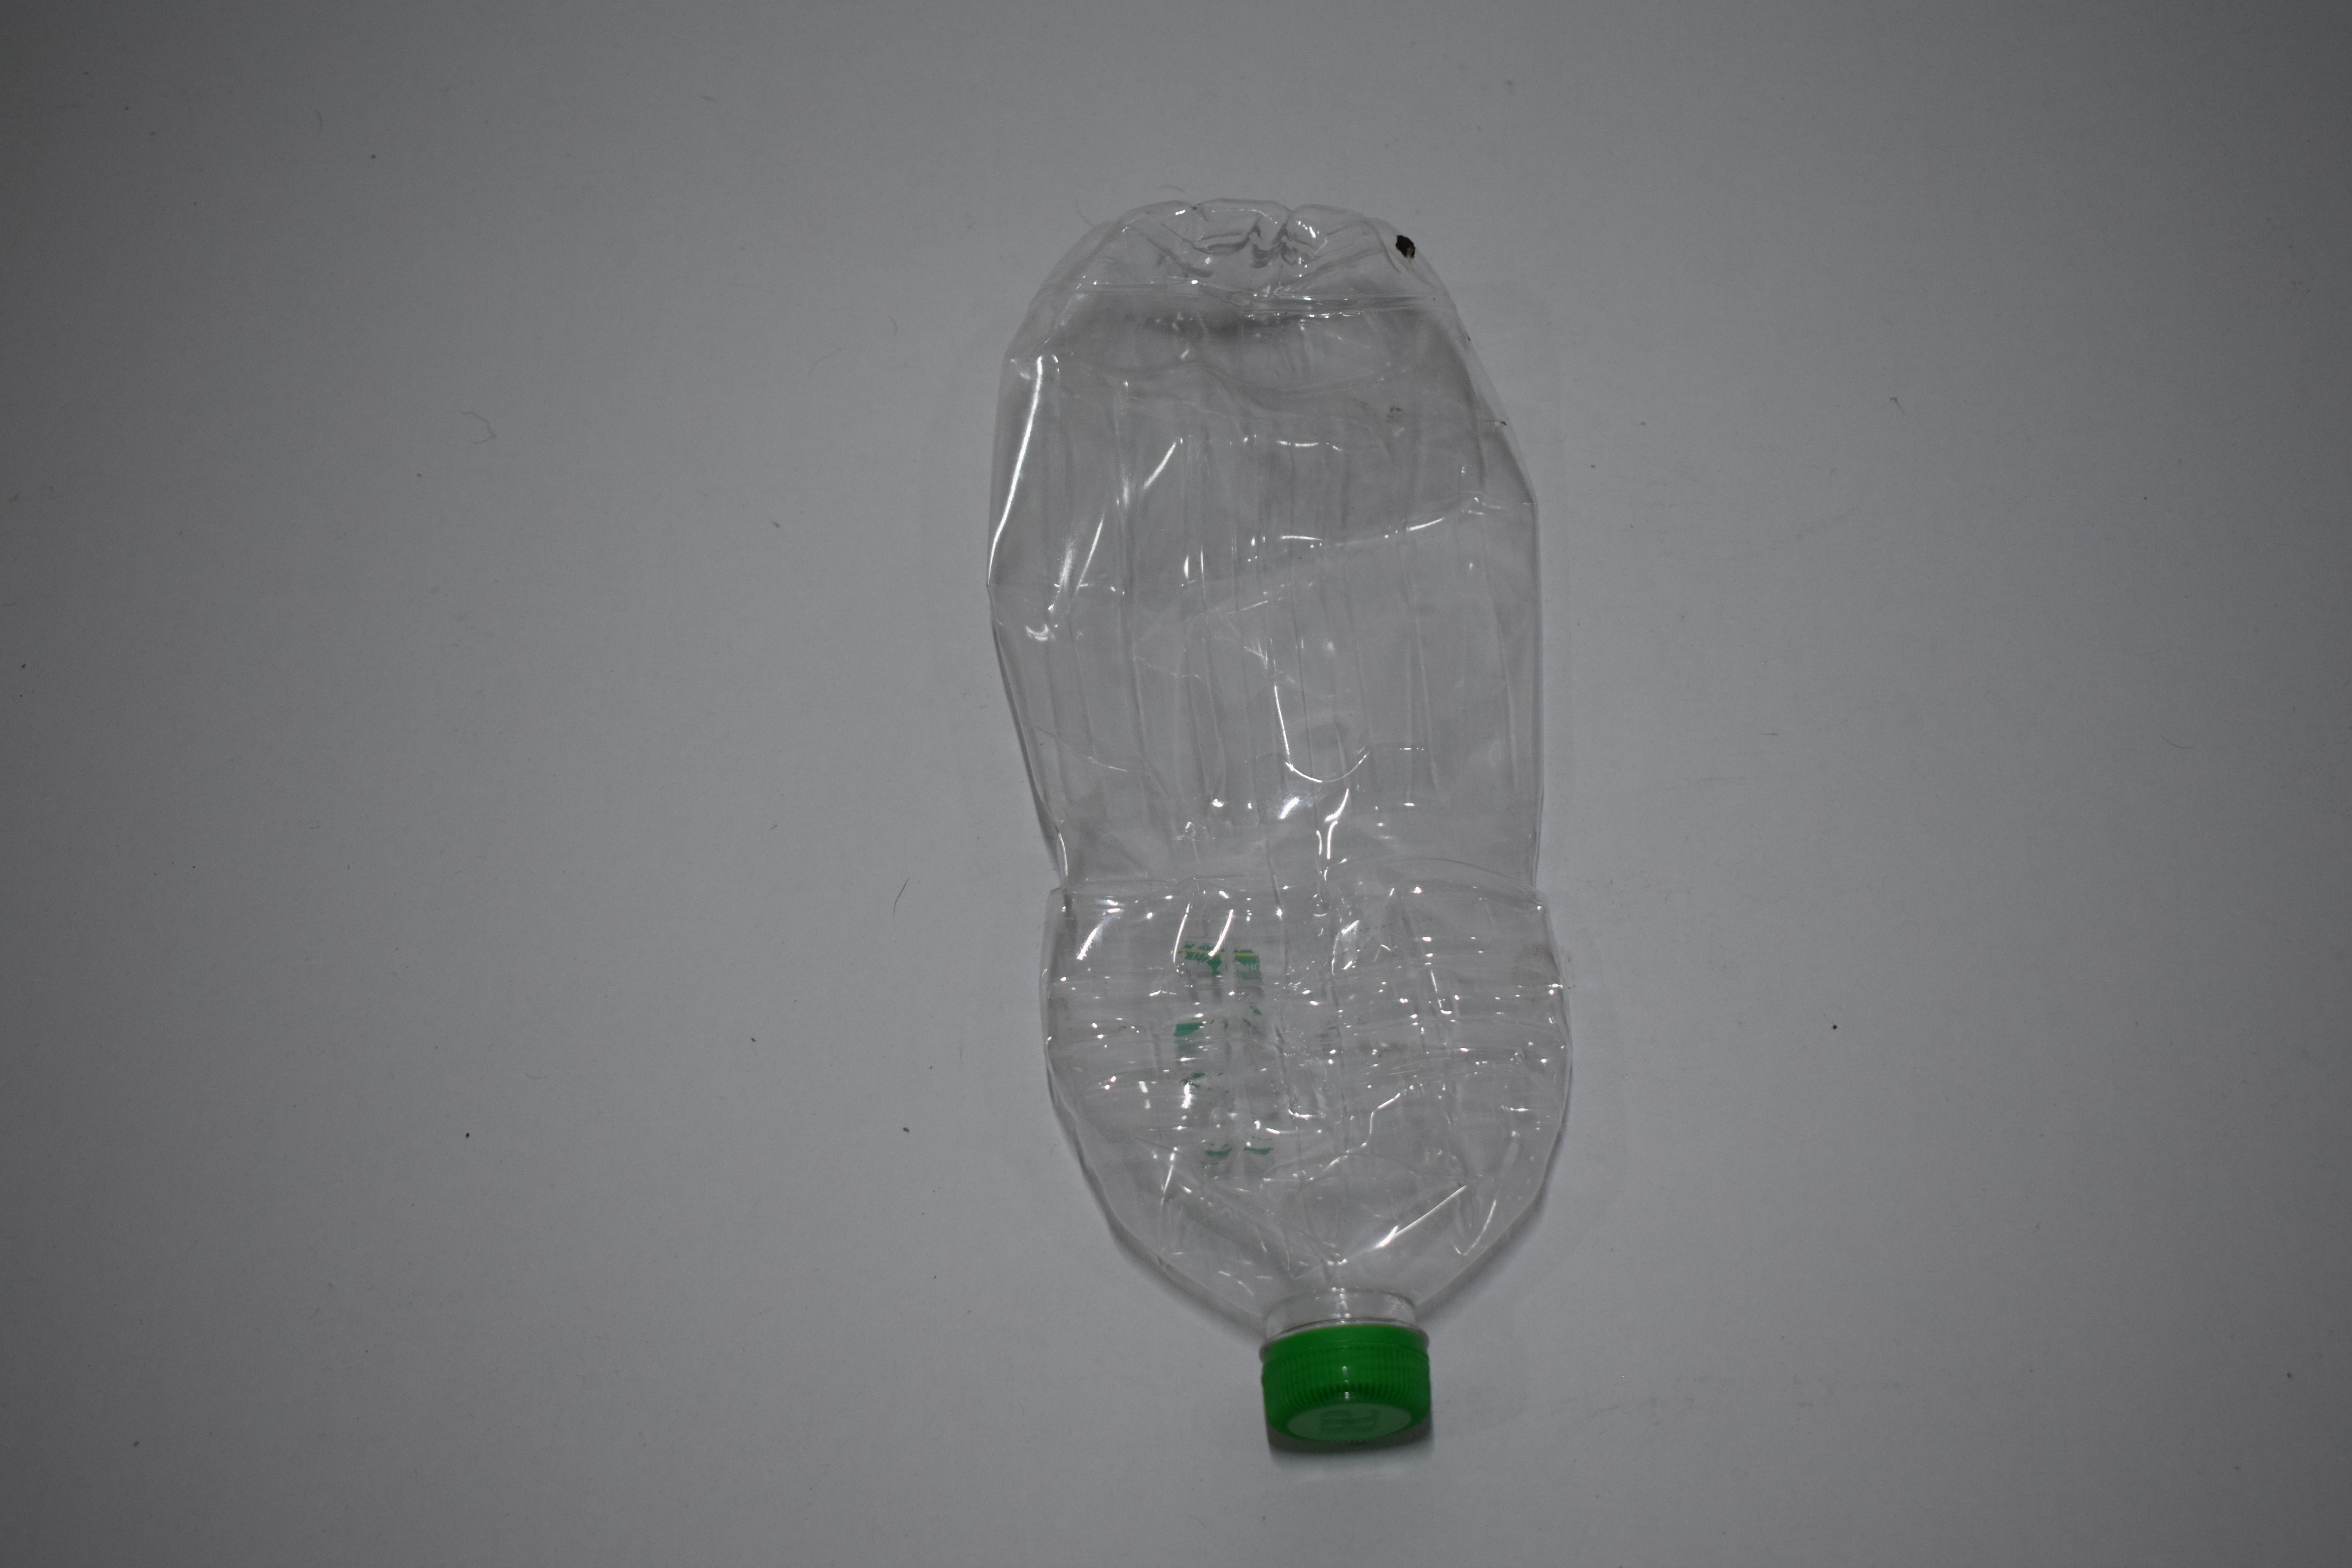bottle: (0, 0, 408, 686)
